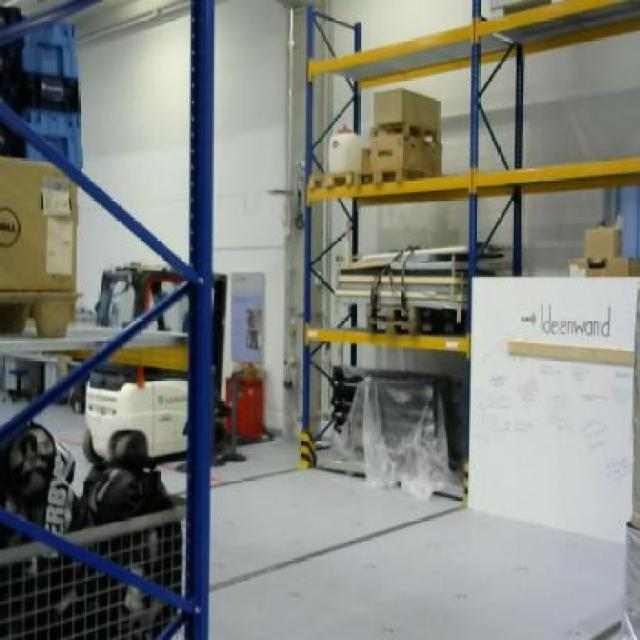box: (0, 150, 78, 289), (373, 86, 441, 134), (370, 134, 441, 174), (581, 225, 621, 258)
